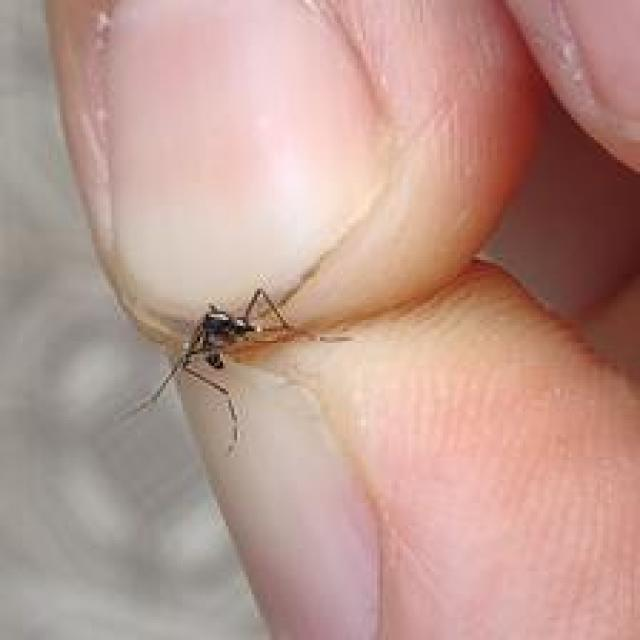Aedes albopictus: (123, 286, 351, 454)
